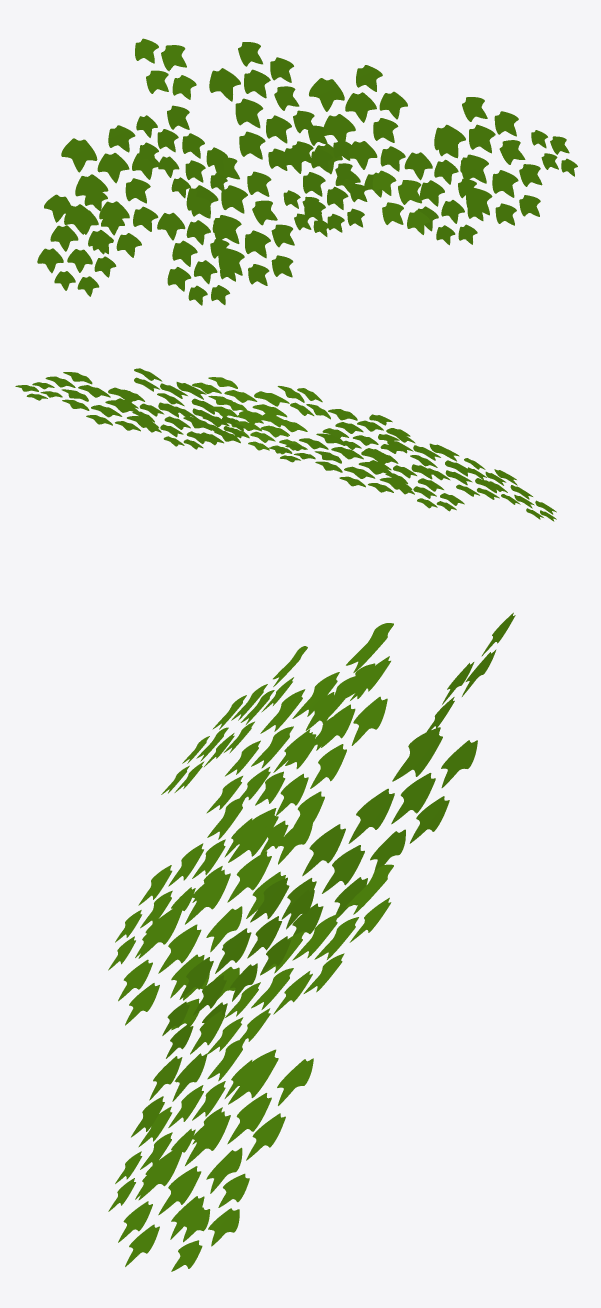
The model's file is Prop_Vine9.gltf.
The picture shows the model from 3 angles, top to bottom: view 1: azimuth 30°, elevation 25°; view 2: azimuth 150°, elevation 25°; view 3: azimuth 270°, elevation 25°; orthographic projection. The views are drawn at different scales.
Parts seen in each view (by area): view 1: Prop_Vine9; view 2: Prop_Vine9; view 3: Prop_Vine9.
Part boxes in pixels (bbox=[...]): Prop_Vine9: bbox=[37, 38, 577, 305]; Prop_Vine9: bbox=[15, 368, 556, 521]; Prop_Vine9: bbox=[108, 612, 515, 1271].
Size of the model in its own units: 4.14 by 1.47 by 1.47.
Materials: 1 (1 with a texture image).
